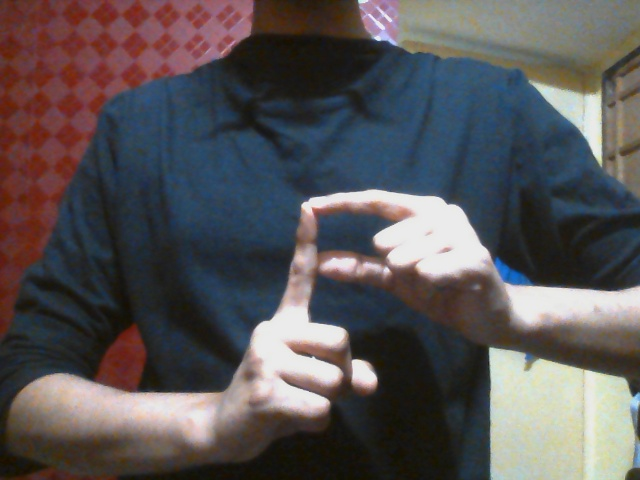P: (226, 186, 485, 440)
